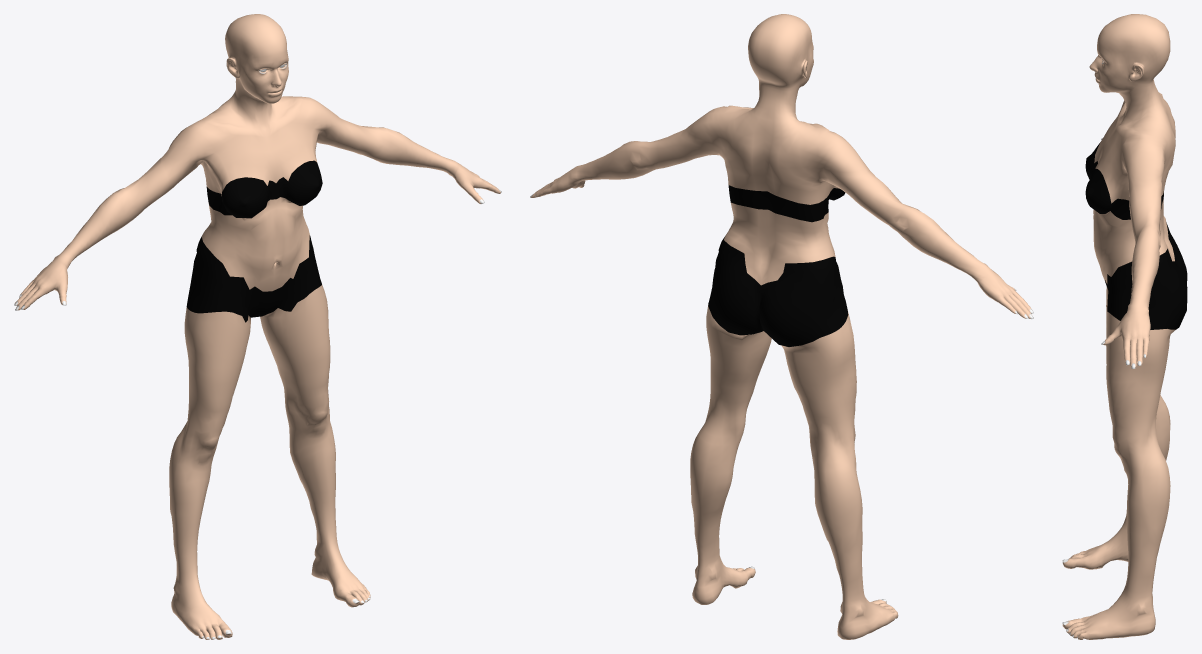
File: Women_M.glb
3 views of the same model, side by side, from view 1: azimuth 30°, elevation 25°; view 2: azimuth 150°, elevation 25°; view 3: azimuth 270°, elevation 25° (orthographic). The views are drawn at different scales.
Parts seen in each view (by area): view 1: f_ca01; view 2: f_ca01; view 3: f_ca01.
Boxes of the visible parts, box(x1,y1,x2,y2) form: f_ca01: box(14, 14, 501, 639); f_ca01: box(530, 14, 1033, 639); f_ca01: box(1062, 14, 1187, 639).
Size of the model in its own units: 1.48 by 1.69 by 0.3279.
10 materials, 1 textured.
